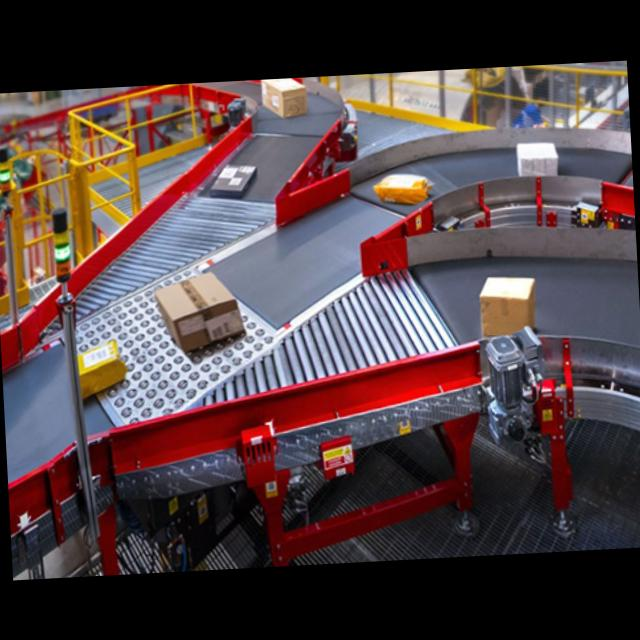box: (154, 270, 244, 352), (479, 274, 538, 338), (74, 338, 126, 395), (264, 76, 307, 118), (516, 141, 560, 176)
mailer: (210, 161, 258, 200), (376, 172, 429, 205)
